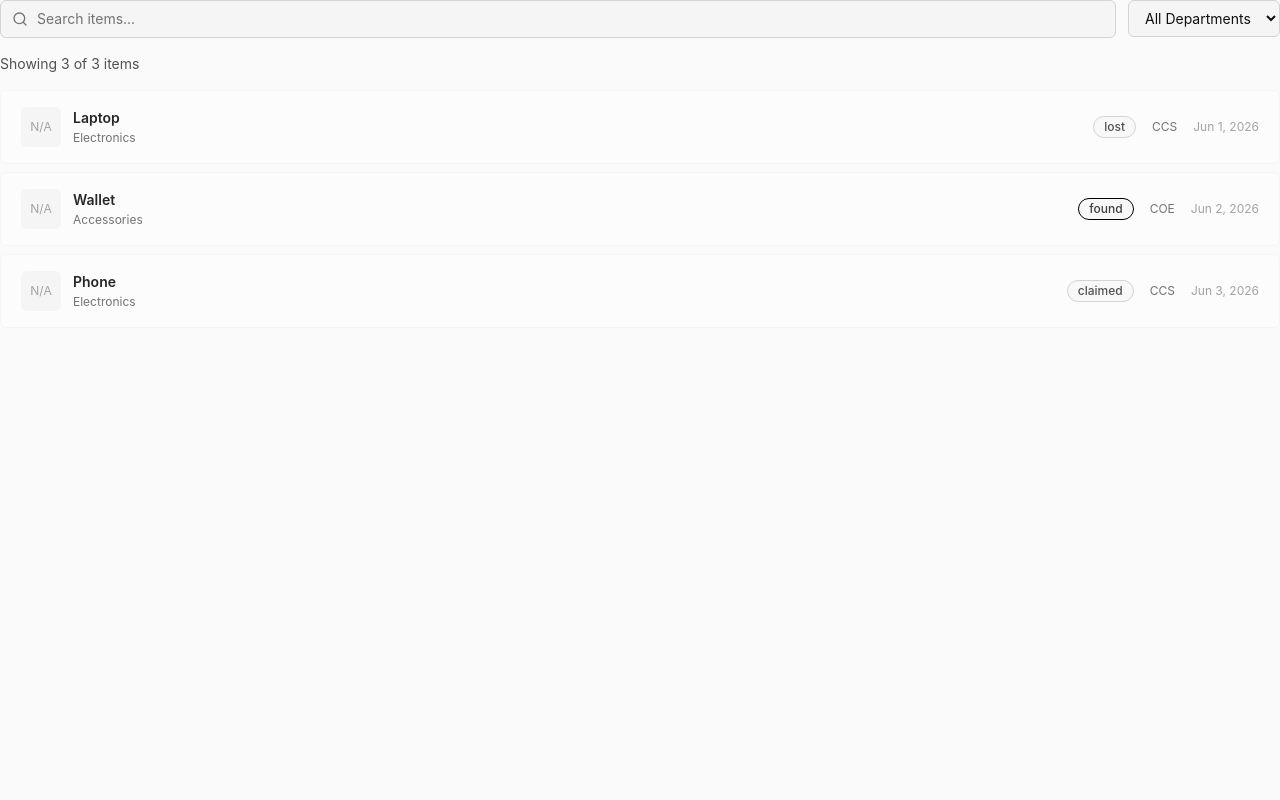
Test case: GlobalLedger › detail modal › shows surrendered_by details for found items with matching department
Click the text "Wallet" at coordinates (94, 200), box [73,191,115,208]
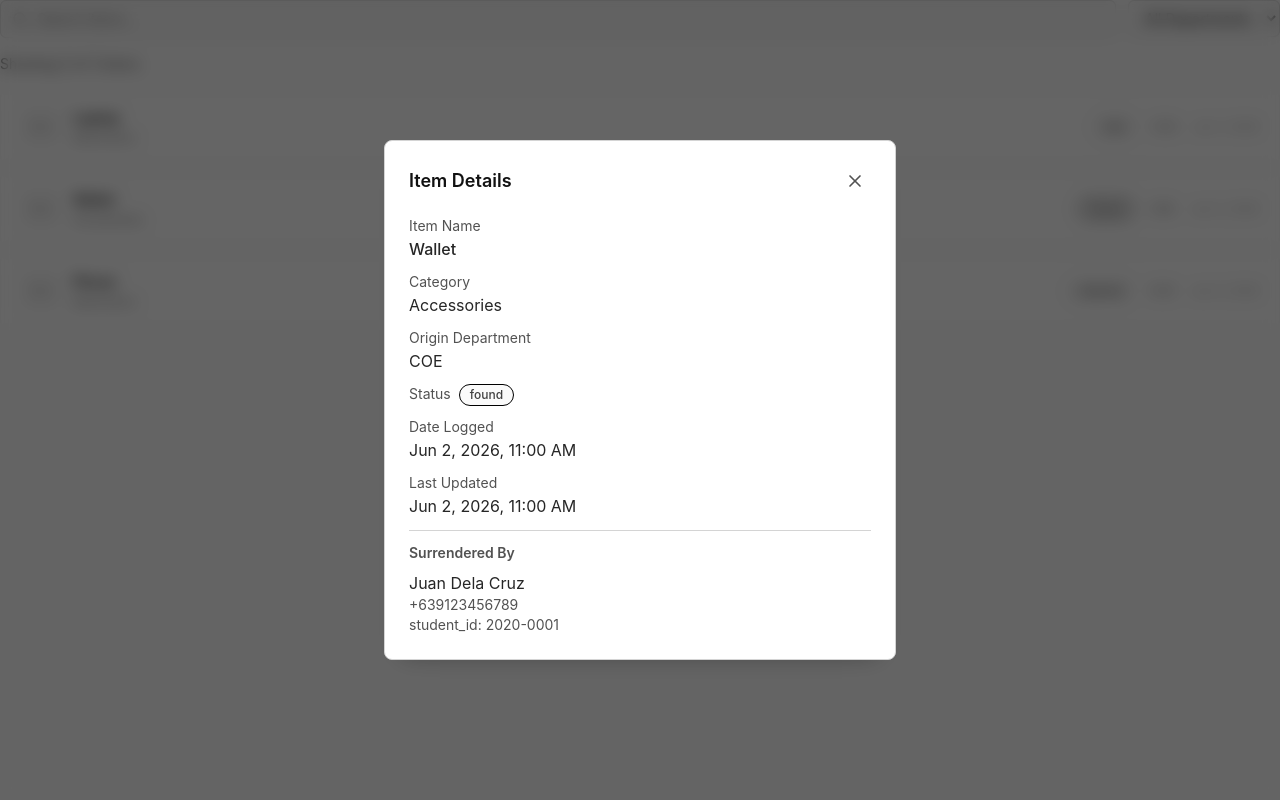
Check: the heading "Surrendered By" is shown, box [409,544,515,561]
Check: the text "Juan Dela Cruz" is shown, box [409,573,525,593]
Check: the text "+639123456789" is shown, box [409,596,518,613]
